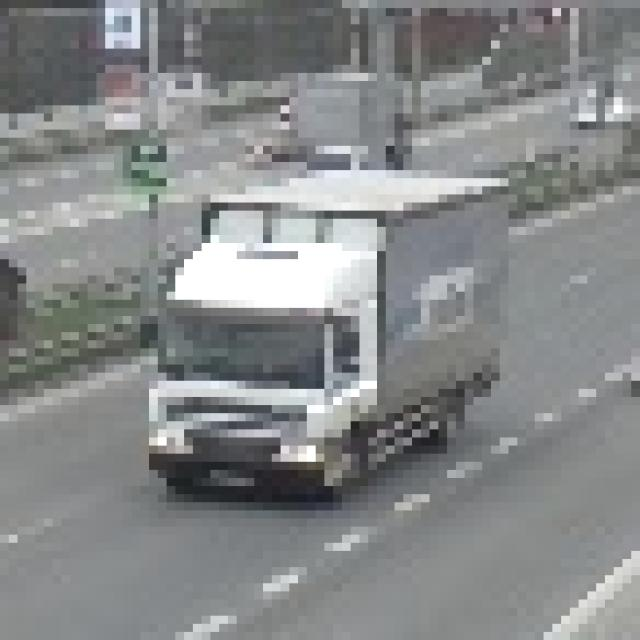truck: (132, 163, 492, 495)
